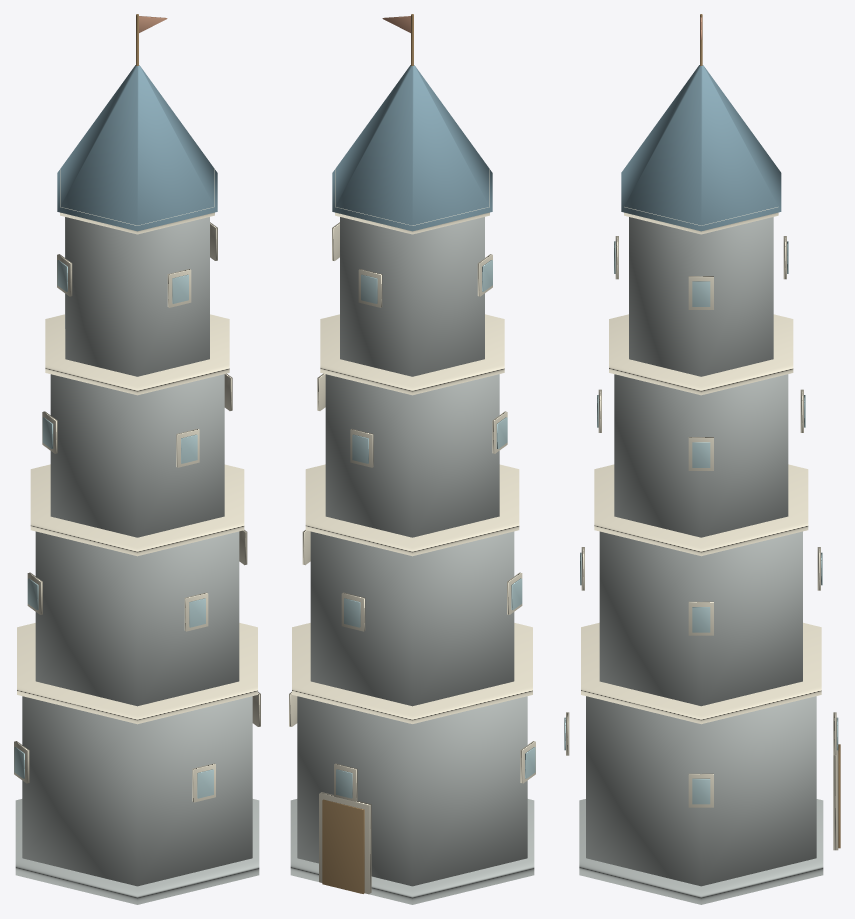
Rendered from climb_low.glb.
3 renders of one model, left to right at view 1: azimuth 30°, elevation 25°; view 2: azimuth 150°, elevation 25°; view 3: azimuth 270°, elevation 25°, orthographic.
Size of the model in its own units: 6.64 by 21.62 by 6.52.
